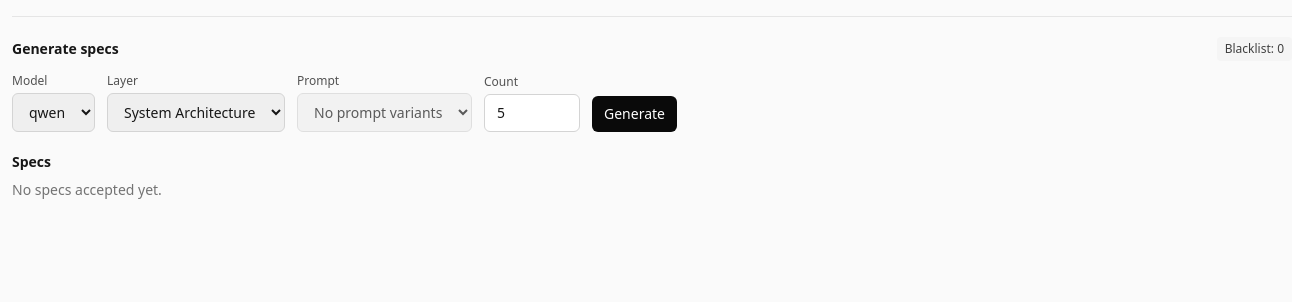
GenerationPanel › generates and accepts child specs for a selected Spec
Click the button "Generate" at point(634, 114), box x1=592 y1=96 x2=677 y2=132
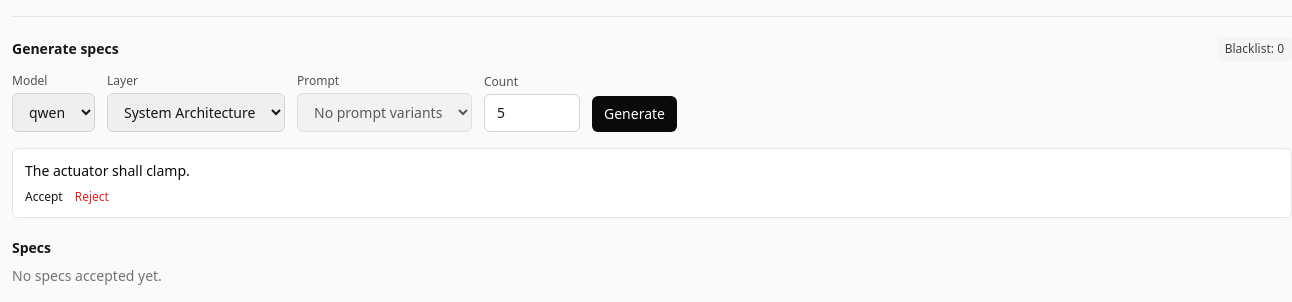
Check: the dropdown named "Target layer" shows "System Architecture", box x1=107 y1=93 x2=285 y2=132
Check: the text "The actuator shall clamp." is shown, box x1=25 y1=161 x2=190 y2=180
Click the button "Accept" at point(44, 197), box x1=25 y1=189 x2=63 y2=205
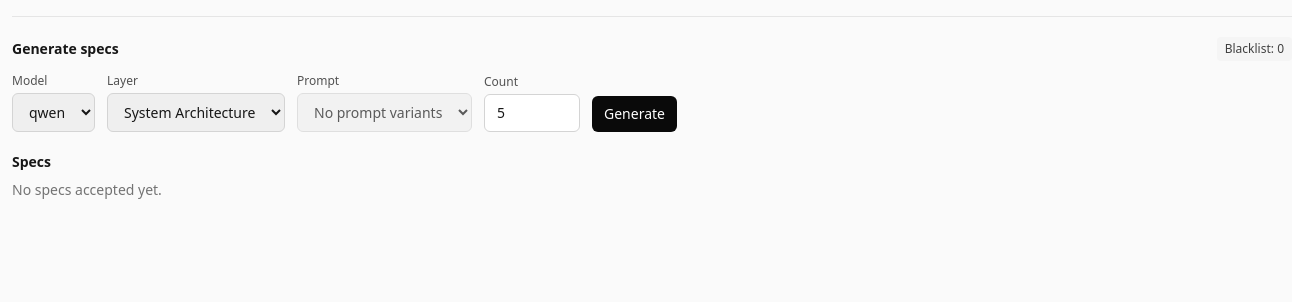
Check: the text "The actuator shall clamp." is gone
